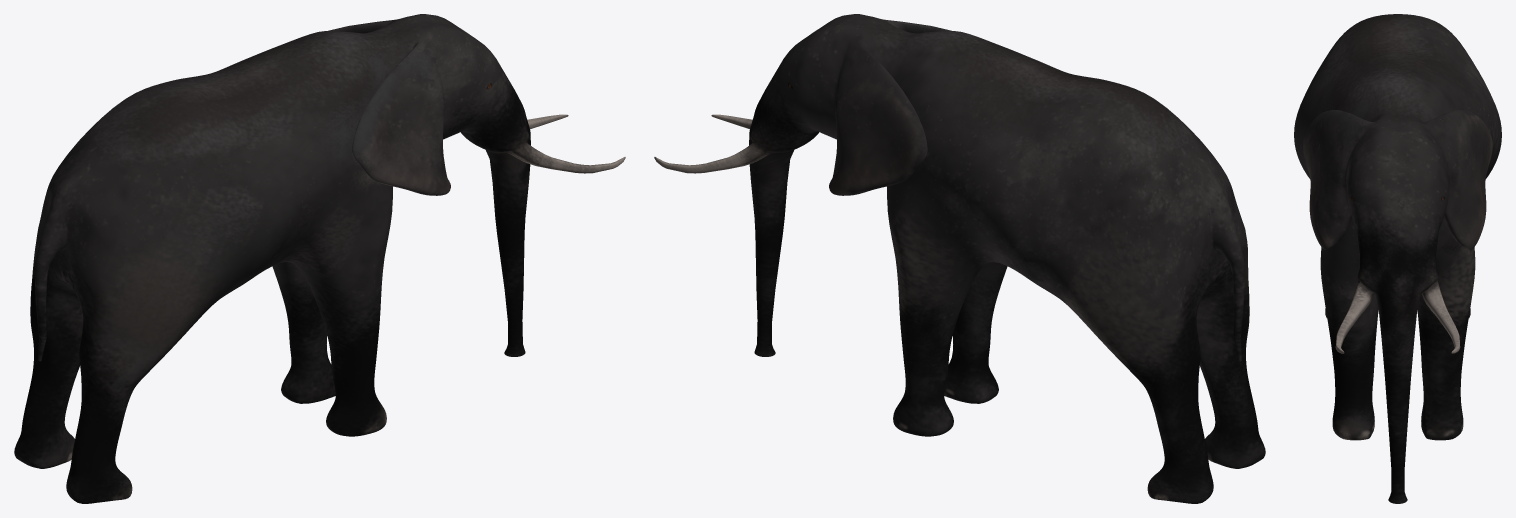
File: elephant.glb
3 views of the same model, side by side, from view 1: azimuth 30°, elevation 25°; view 2: azimuth 150°, elevation 25°; view 3: azimuth 270°, elevation 25° (orthographic). The views are drawn at different scales.
Parts seen in each view (by area): view 1: Object_2; view 2: Object_2; view 3: Object_2.
Part boxes in pixels (box(x1,y1,x2,y2)): Object_2: box(14, 14, 625, 503); Object_2: box(654, 14, 1265, 503); Object_2: box(1294, 14, 1501, 503).
Size of the model in its own units: 6.89 by 4.43 by 2.35.
Materials: 1 (1 with a texture image).
